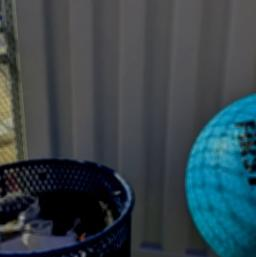algae: (183, 84, 256, 257)
